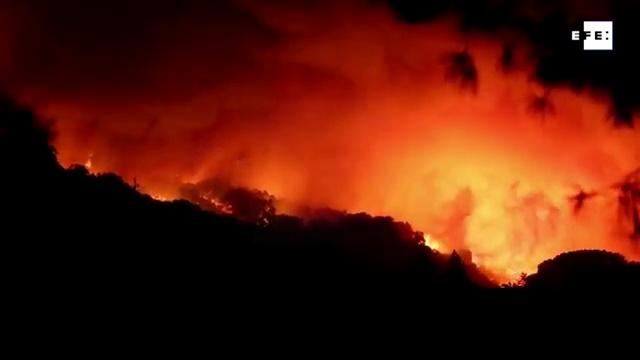fire: (444, 160, 535, 265)
